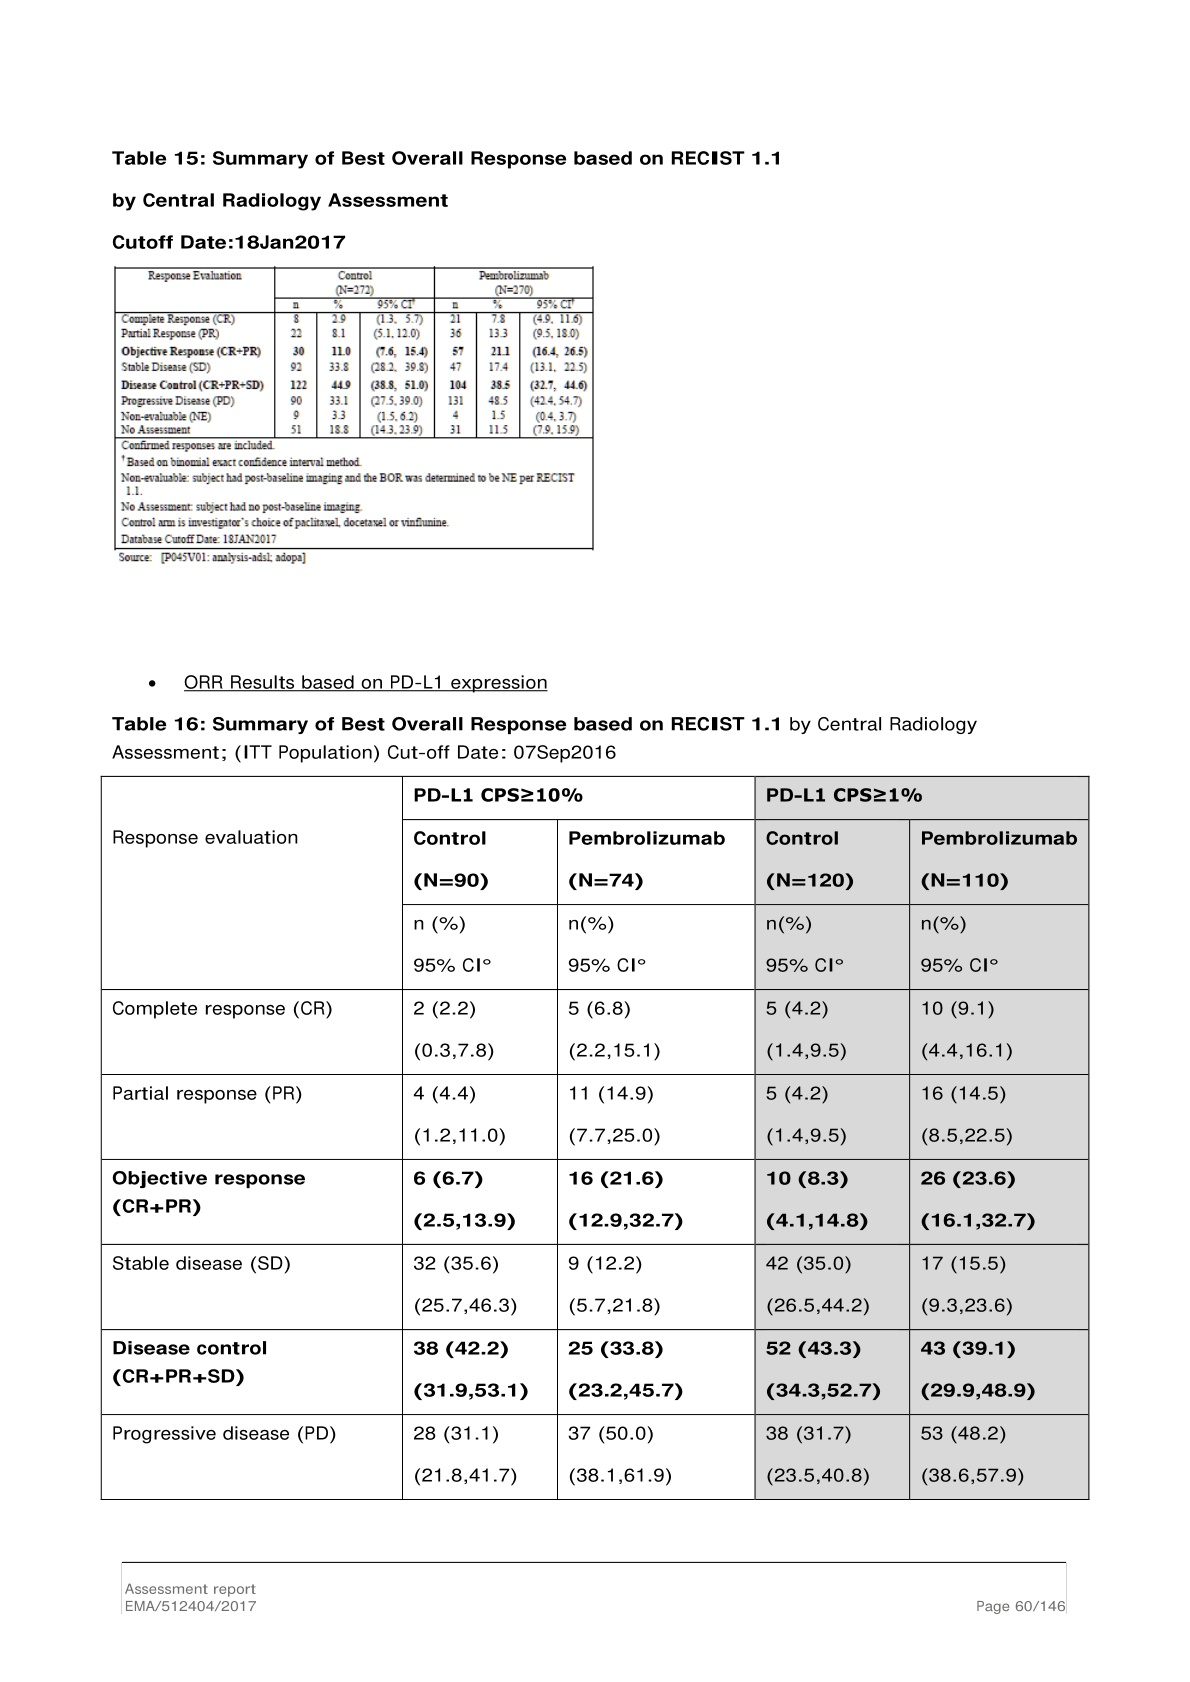merged_cells: (100, 775, 1091, 1502)
partial_lined_merged_cells: (113, 267, 595, 551)
